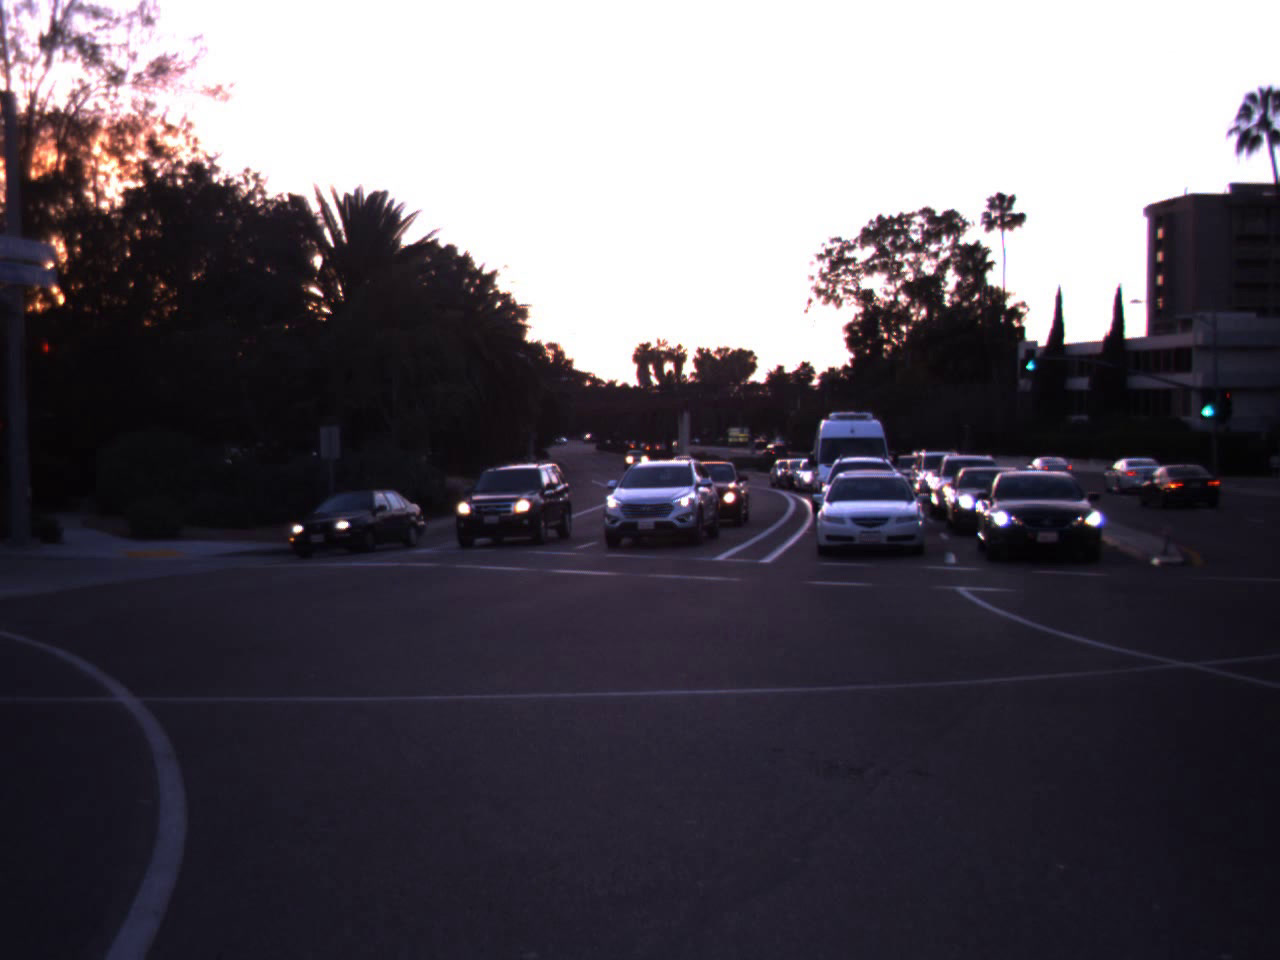go: (1183, 354, 1228, 424), (1015, 320, 1045, 375)
